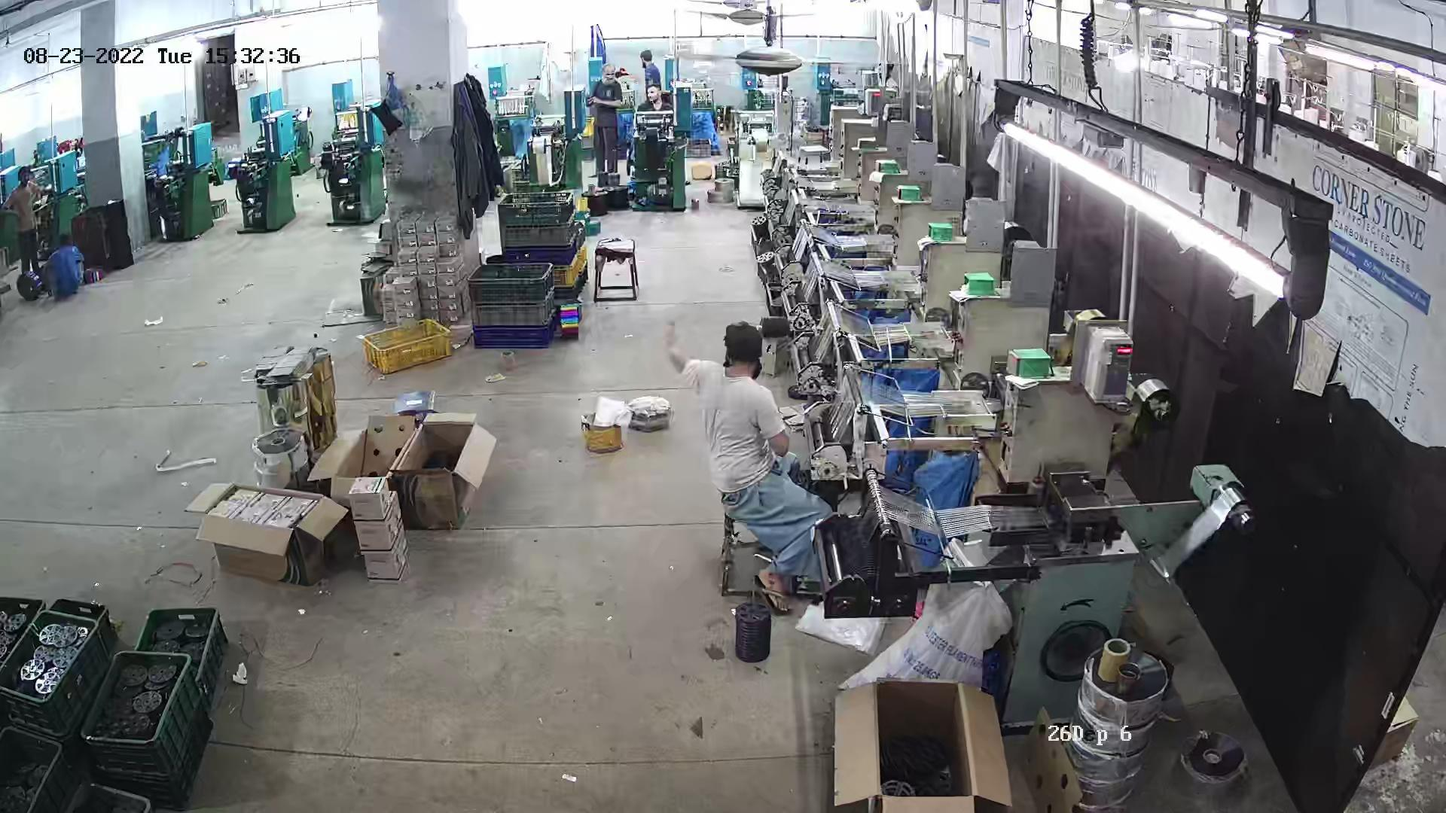person: (696, 312, 821, 613), (5, 165, 42, 270), (592, 74, 625, 169), (628, 43, 664, 86)
